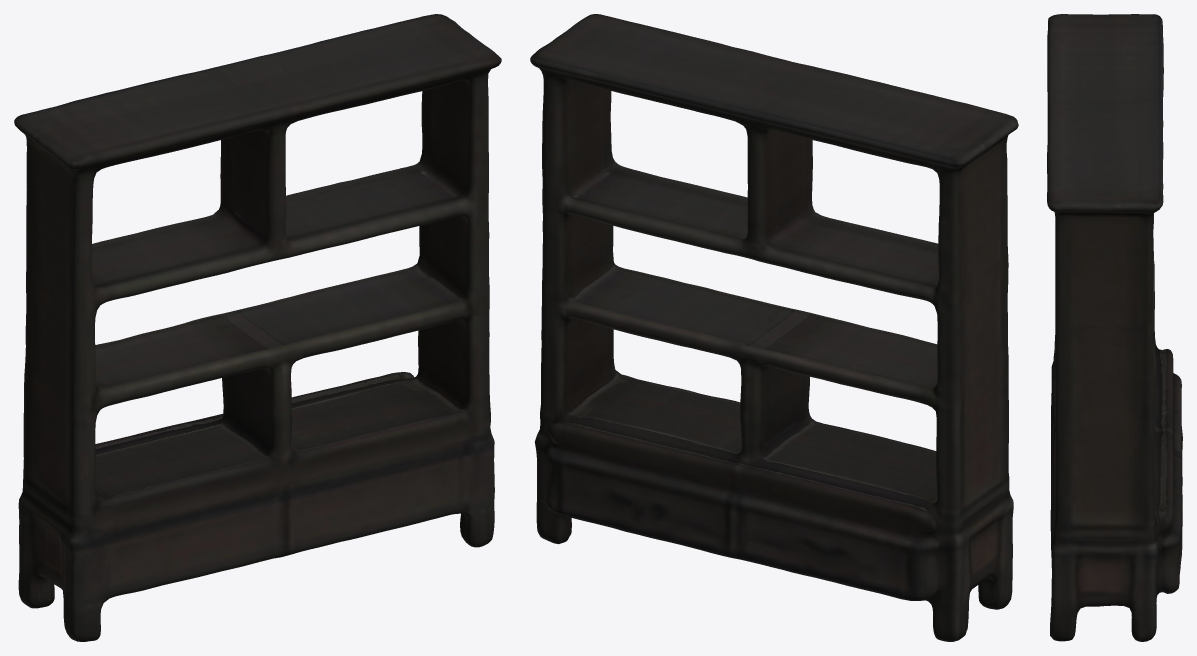
File: 9fe38aeac02e_a_bookshelf_with_th.fbx
3 renders of one model, left to right at view 1: azimuth 30°, elevation 25°; view 2: azimuth 150°, elevation 25°; view 3: azimuth 270°, elevation 25°, orthographic. The views are drawn at different scales.
Visible parts, largest first — view 1: mesh; view 2: mesh; view 3: mesh.
Part boxes in pixels (x1=…): mesh: x1=14, y1=14, x2=501, y2=641; mesh: x1=530, y1=14, x2=1018, y2=641; mesh: x1=1047, y1=14, x2=1182, y2=641.
Size of the model in its own units: 92.84 by 99.91 by 27.68.
